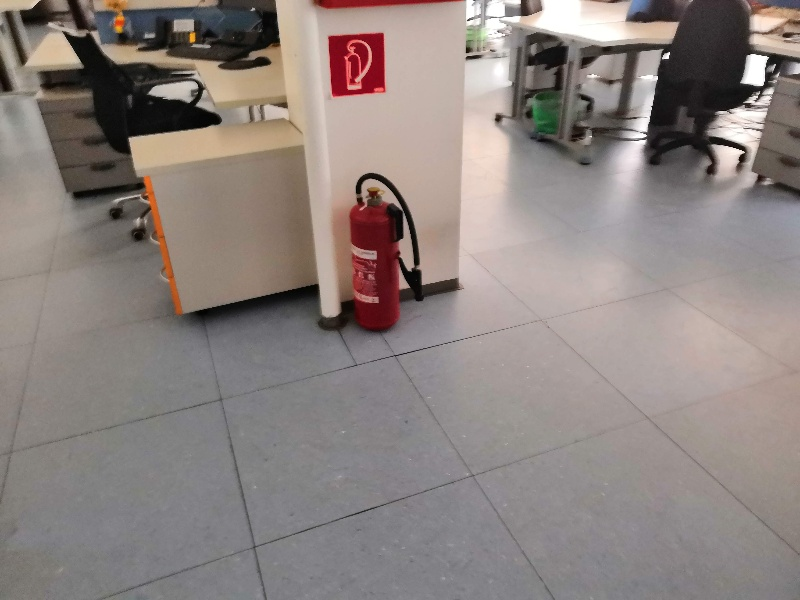vataparat: (347, 172, 423, 330)
